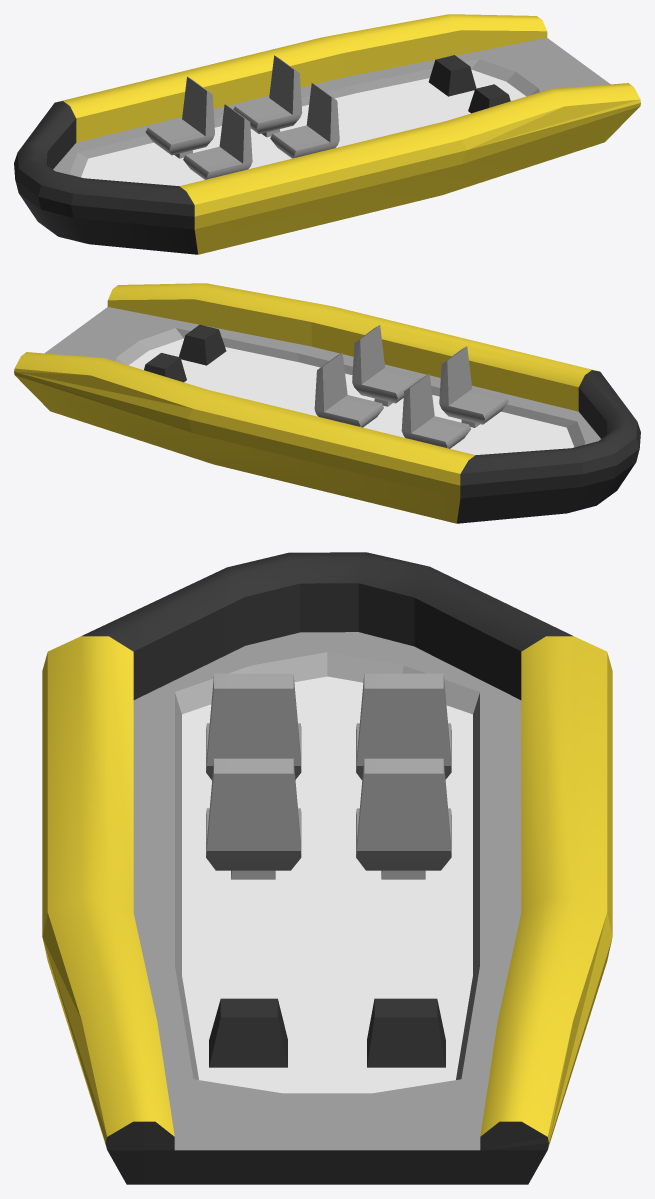
Rendered from Boat.FBX.
The picture shows the model from 3 angles, top to bottom: view 1: azimuth 30°, elevation 25°; view 2: azimuth 150°, elevation 25°; view 3: azimuth 270°, elevation 25°; orthographic projection. The views are drawn at different scales.
Visible parts, largest first — view 1: Box001; view 2: Box001; view 3: Box001.
Boxes of the visible parts, x1,y1,x2,y2 form: Box001: (14, 14, 640, 254); Box001: (14, 283, 640, 523); Box001: (42, 552, 612, 1184).
Size of the model in its own units: 48.79 by 7.54 by 21.56.
